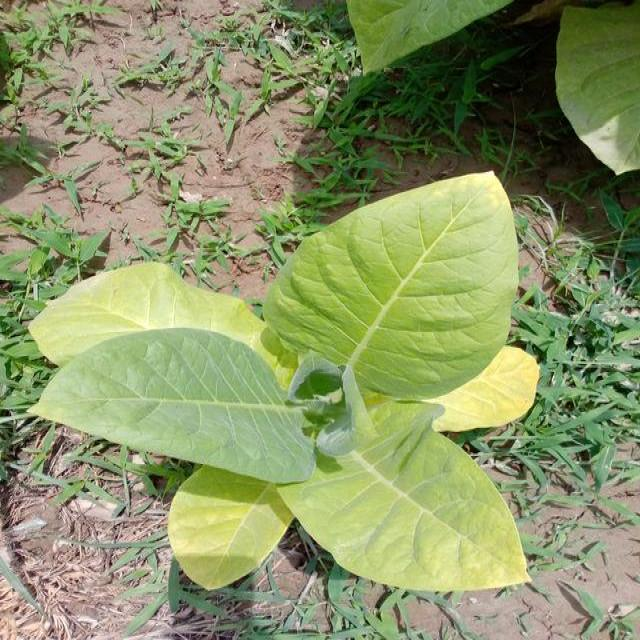crop: (44, 202, 561, 600), (577, 6, 640, 192), (366, 0, 519, 73)
